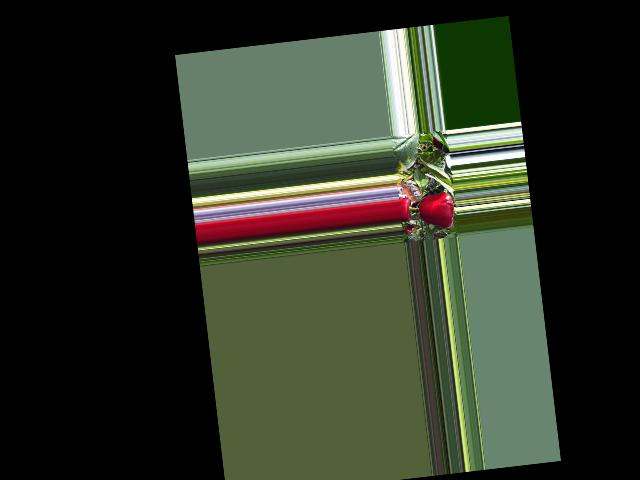bell_pepper: (397, 194, 415, 223)
